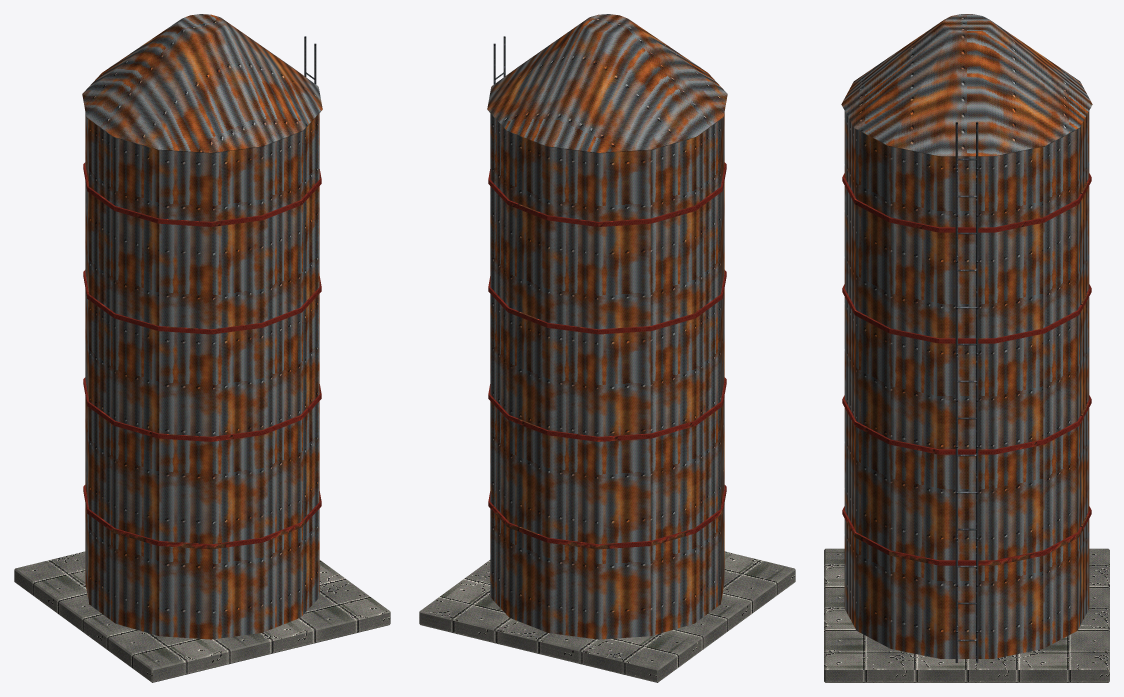
The model's file is prop_silo.glb.
The picture shows the model from 3 angles, left to right: view 1: azimuth 30°, elevation 25°; view 2: azimuth 150°, elevation 25°; view 3: azimuth 270°, elevation 25°; orthographic projection. The views are drawn at different scales.
Parts seen in each view (by area): view 1: prop_silo_mesh; view 2: prop_silo_mesh; view 3: prop_silo_mesh.
Boxes of the visible parts, x1,y1,x2,y2 form: prop_silo_mesh: (14,14,390,682); prop_silo_mesh: (419,14,795,682); prop_silo_mesh: (824,14,1109,682).
Size of what is drawn, in the model's own units: 7 by 16.2 by 7.
4 materials, 4 textured.
